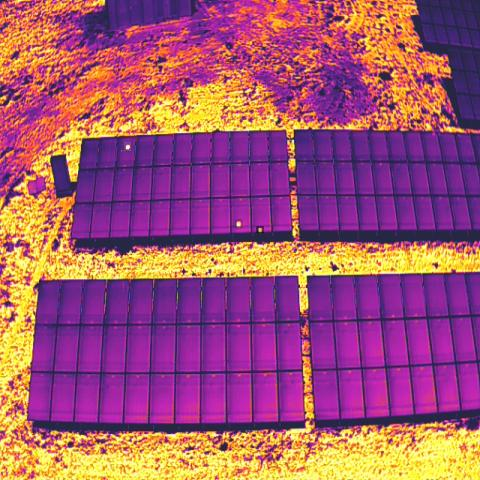fault: (236, 219, 244, 229), (124, 142, 131, 151), (256, 226, 264, 233)
